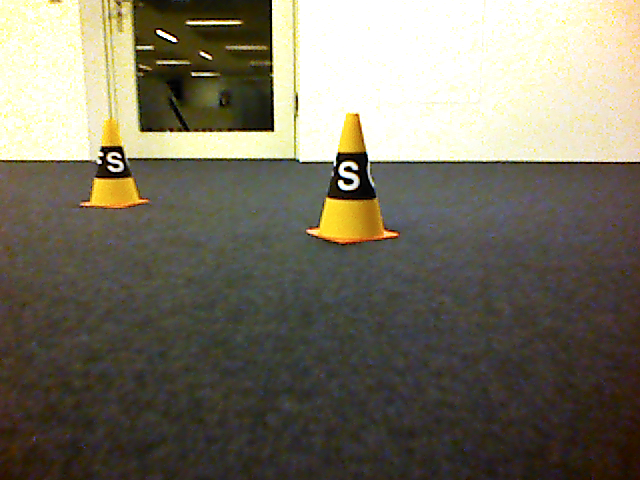yellowcone: (303, 111, 399, 245), (76, 119, 151, 210)
